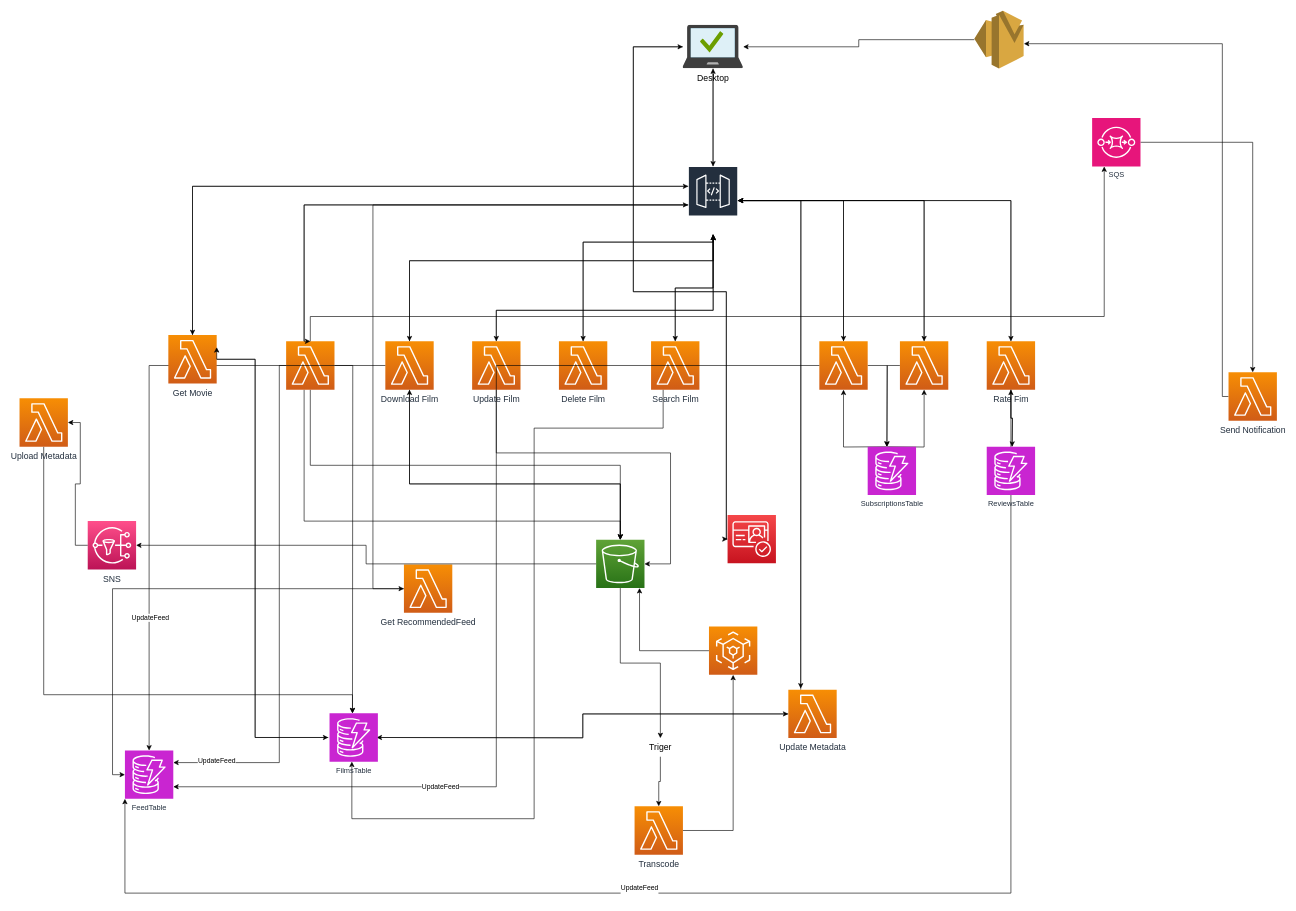
This 1296x911 diagram has some shape labels left out. The shapes that lost their labels are listed below. From the top down, each one's centre as x and y in pixels, then its label:
At (999,39): "SES".
At (713,200): "Amazon API Gateway".
At (310,365): "Upload film".
At (843,365): "Subscribe".
At (923,365): "Unsubscribe".
At (751,538): "Amazon Cognito".
At (620,563): "S3 Bucket".
At (732,650): "Elemental MediaConverter".
